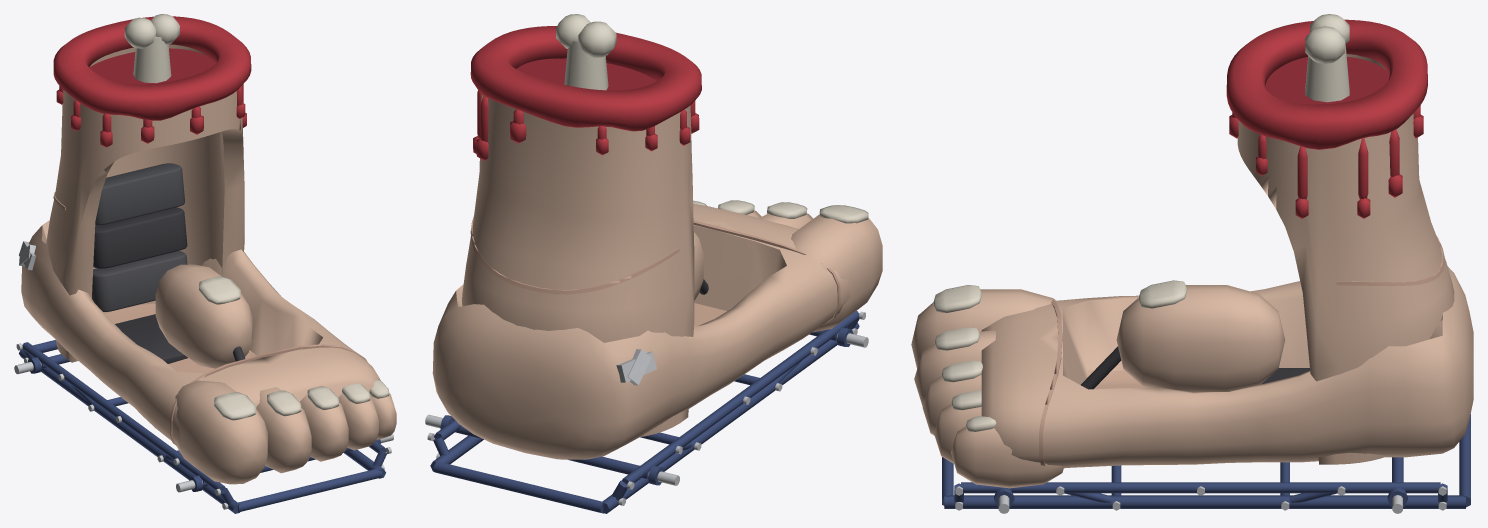
File: foot.glb
3 renders of one model, left to right at view 1: azimuth 30°, elevation 25°; view 2: azimuth 150°, elevation 25°; view 3: azimuth 270°, elevation 25°, orthographic. The views are drawn at different scales.
Parts seen in each view (by area): view 1: foot, foot_wreck, foot_sig; view 2: foot, foot_wreck, foot_sig; view 3: foot, foot_wreck, foot_sig.
Boxes of the visible parts, box(x1,y1,x2,y2) form: foot: box(14, 14, 394, 513); foot_wreck: box(14, 208, 396, 511); foot_sig: box(155, 264, 252, 368); foot: box(425, 14, 882, 513); foot_wreck: box(425, 201, 868, 513); foot_sig: box(694, 232, 703, 300); foot: box(911, 14, 1473, 513); foot_wreck: box(915, 281, 1473, 507); foot_sig: box(1116, 280, 1285, 391).
Size of the model in its own units: 1.07 by 1.74 by 2.
